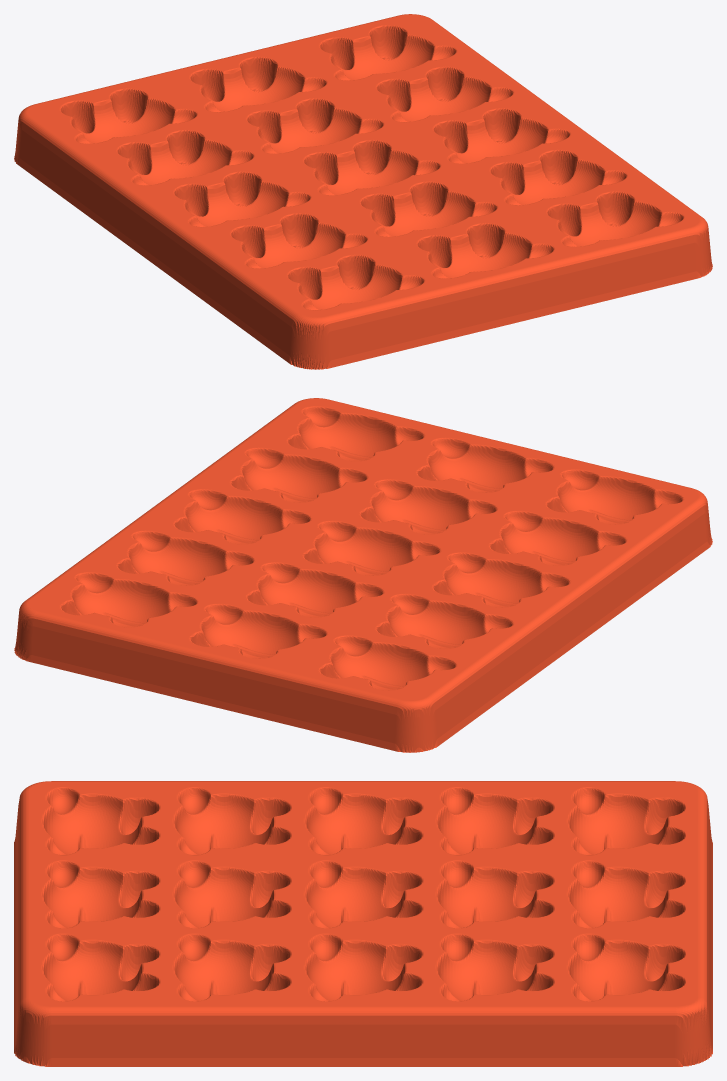
The model's file is mold.glb.
3 renders of one model, top to bottom at view 1: azimuth 30°, elevation 25°; view 2: azimuth 150°, elevation 25°; view 3: azimuth 270°, elevation 25°, orthographic. The views are drawn at different scales.
Visible parts, largest first — view 1: geometry_0; view 2: geometry_0; view 3: geometry_0.
Boxes of the visible parts, box(x1,y1,x2,y2) form: geometry_0: box(14, 14, 712, 369); geometry_0: box(14, 398, 712, 752); geometry_0: box(14, 781, 712, 1066).
Bounding box in the file's own units: 0.1361 × 0.0144 × 0.1695.
